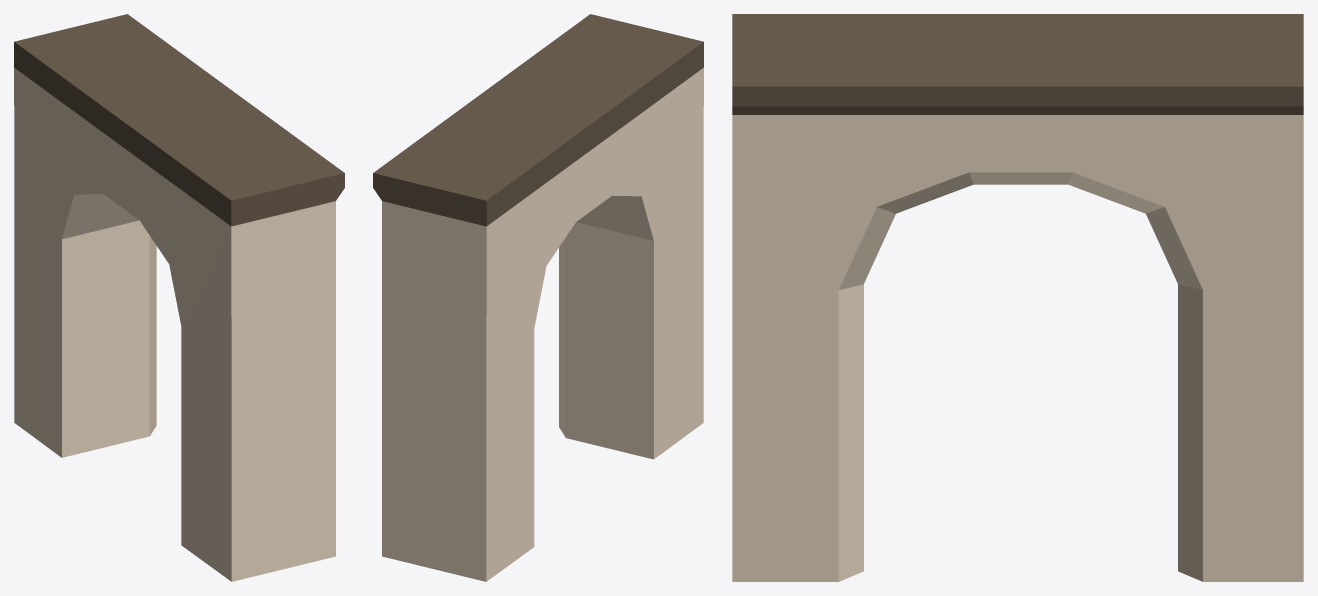
The model's file is wall_1_part_02.fbx.
The picture shows the model from 3 angles, left to right: view 1: azimuth 30°, elevation 25°; view 2: azimuth 150°, elevation 25°; view 3: azimuth 270°, elevation 25°; orthographic projection. The views are drawn at different scales.
Parts seen in each view (by area): view 1: wall_1_part_02; view 2: wall_1_part_02; view 3: wall_1_part_02.
Part boxes in pixels (<box>): wall_1_part_02: <box>14,14,344,581</box>; wall_1_part_02: <box>373,14,703,581</box>; wall_1_part_02: <box>732,14,1303,581</box>.
Size of the model in its own units: 89.78 by 288 by 298.
